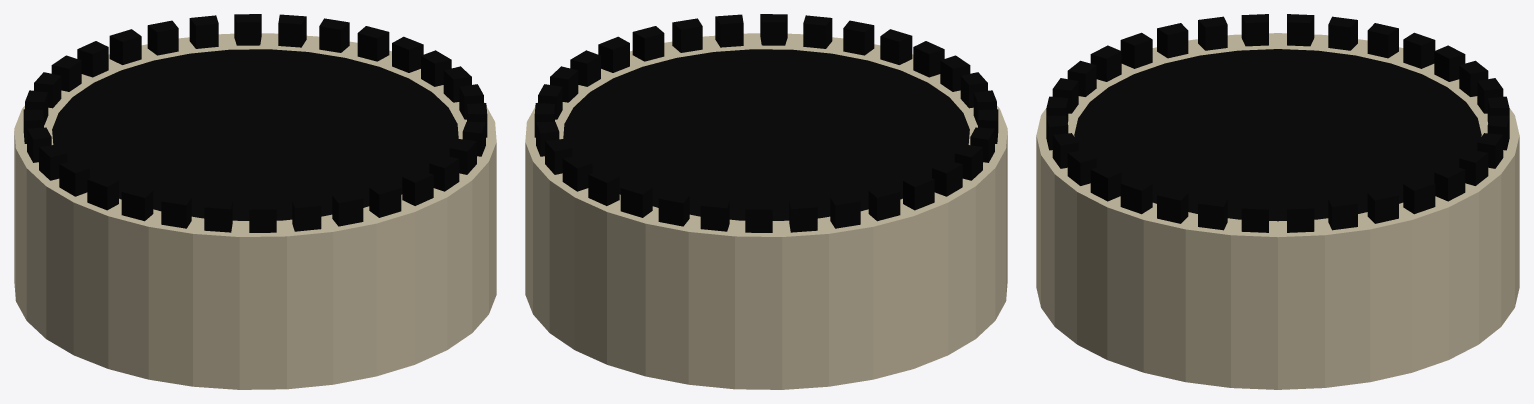
File: Cake.fbx
The picture shows the model from 3 angles, left to right: view 1: azimuth 30°, elevation 25°; view 2: azimuth 150°, elevation 25°; view 3: azimuth 270°, elevation 25°; orthographic projection.
Visible parts, largest first — view 1: Cylinder; view 2: Cylinder; view 3: Cylinder.
Boxes of the visible parts, <box> form: Cylinder: <box>14,14,496,389</box>; Cylinder: <box>525,14,1007,389</box>; Cylinder: <box>1036,14,1519,389</box>.
Size of the model in its own units: 200 by 200 by 80.41.
